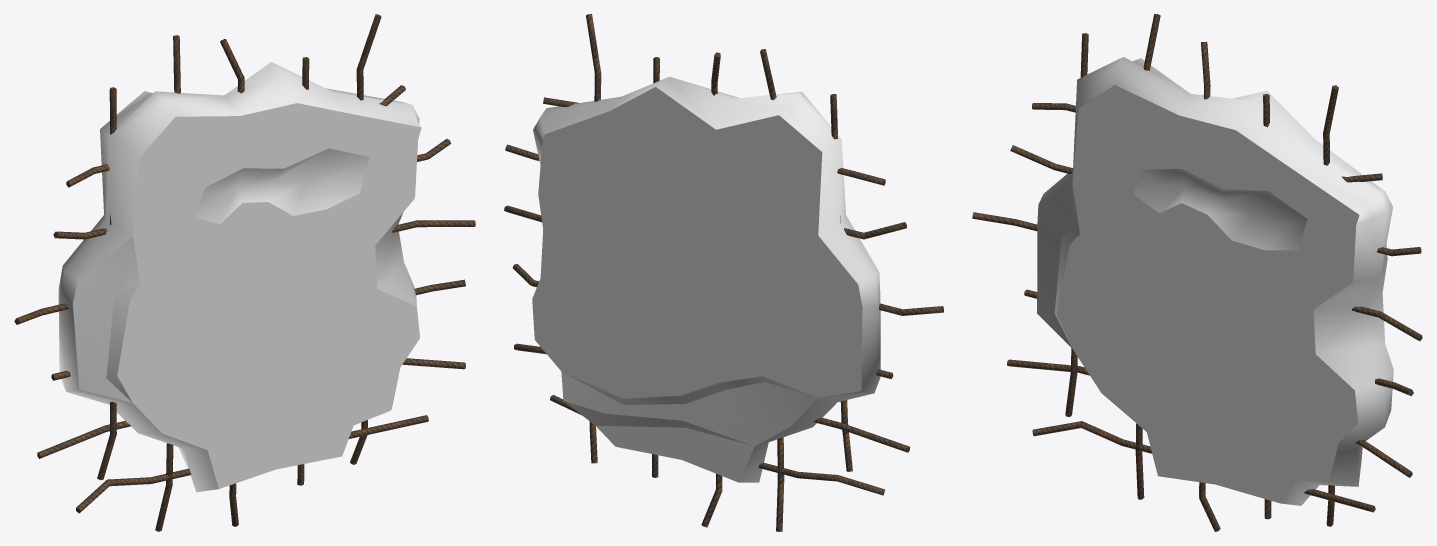
The model's file is Debris3_LOD0.fbx.
3 views of the same model, side by side, from view 1: azimuth 30°, elevation 25°; view 2: azimuth 150°, elevation 25°; view 3: azimuth 330°, elevation 25° (orthographic). The views are drawn at different scales.
Parts seen in each view (by area): view 1: polySurface1290; view 2: polySurface1290; view 3: polySurface1290.
Part boxes in pixels (left/top/right/bottom): polySurface1290: left=14, top=14, right=475, bottom=531; polySurface1290: left=504, top=14, right=943, bottom=531; polySurface1290: left=972, top=14, right=1422, bottom=531.
Bounding box in the file's own units: 3.29 × 3.48 × 0.3589.
